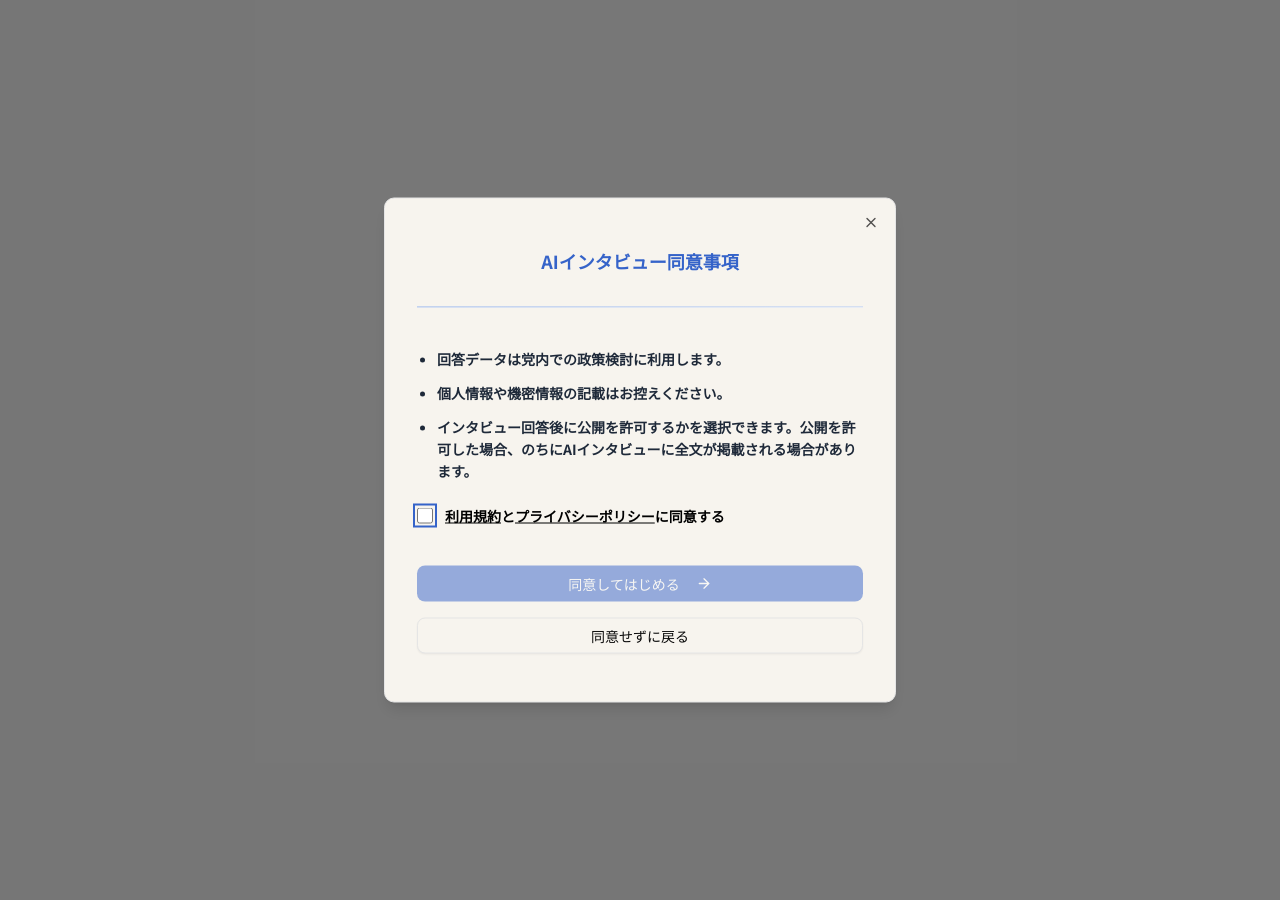
InterviewConsentModal › 規約同意のチェックを入れるまで開始ボタンが無効
Check: the button "同意してはじめる" is disabled, box [417,566,863,602]
Click the checkbox.
click(425, 516)  # box [417,508,433,524]
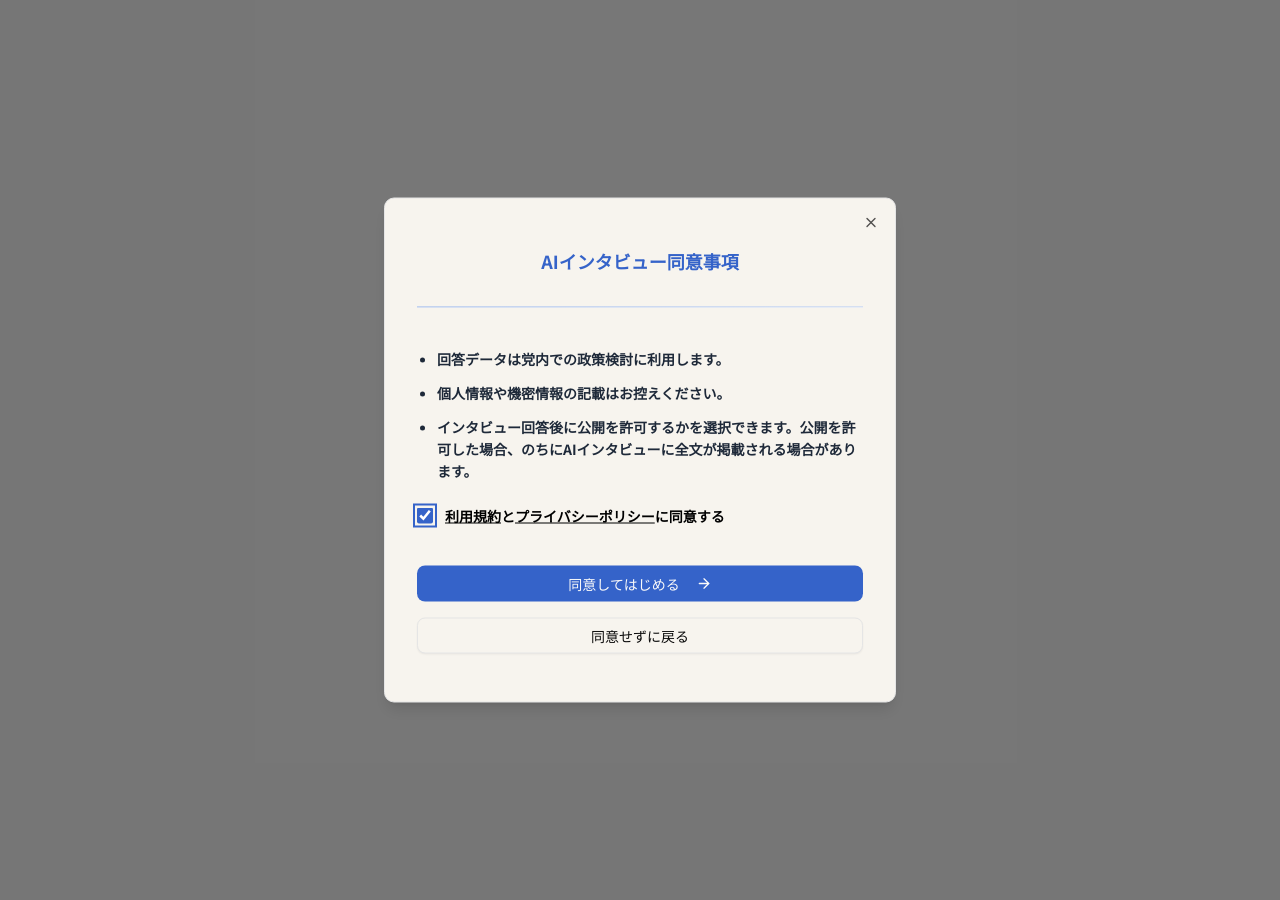
Check: the button "同意してはじめる" is enabled, box [417,566,863,602]
